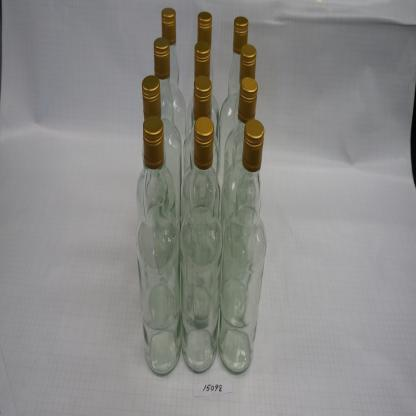Can: (135, 114, 182, 377), (219, 121, 267, 377), (179, 115, 223, 374), (137, 74, 176, 228)
